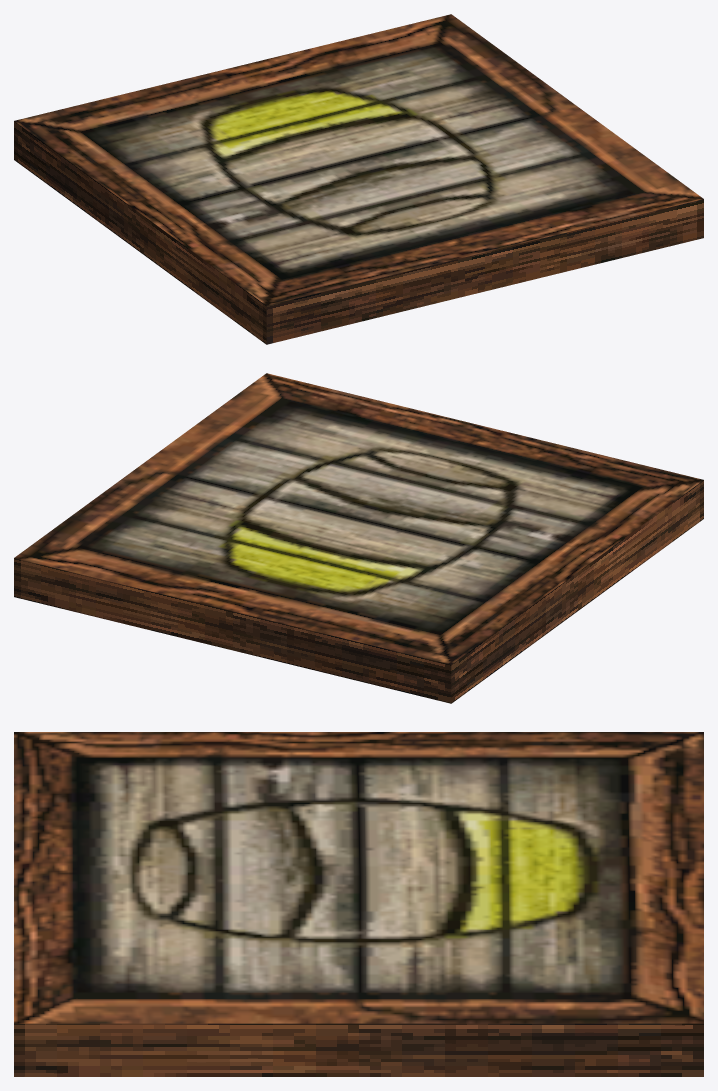
File: INST_LT_PPLATELITE.obj
3 renders of one model, top to bottom at view 1: azimuth 30°, elevation 25°; view 2: azimuth 150°, elevation 25°; view 3: azimuth 270°, elevation 25°, orthographic. The views are drawn at different scales.
Parts seen in each view (by area): view 1: Inst_PPLateLite; view 2: Inst_PPLateLite; view 3: Inst_PPLateLite.
Part boxes in pixels (bbox=[...]): Inst_PPLateLite: bbox=[14, 14, 703, 344]; Inst_PPLateLite: bbox=[14, 373, 703, 703]; Inst_PPLateLite: bbox=[14, 732, 703, 1076].
Bounding box in the file's own units: 200 × 17.05 × 200.
